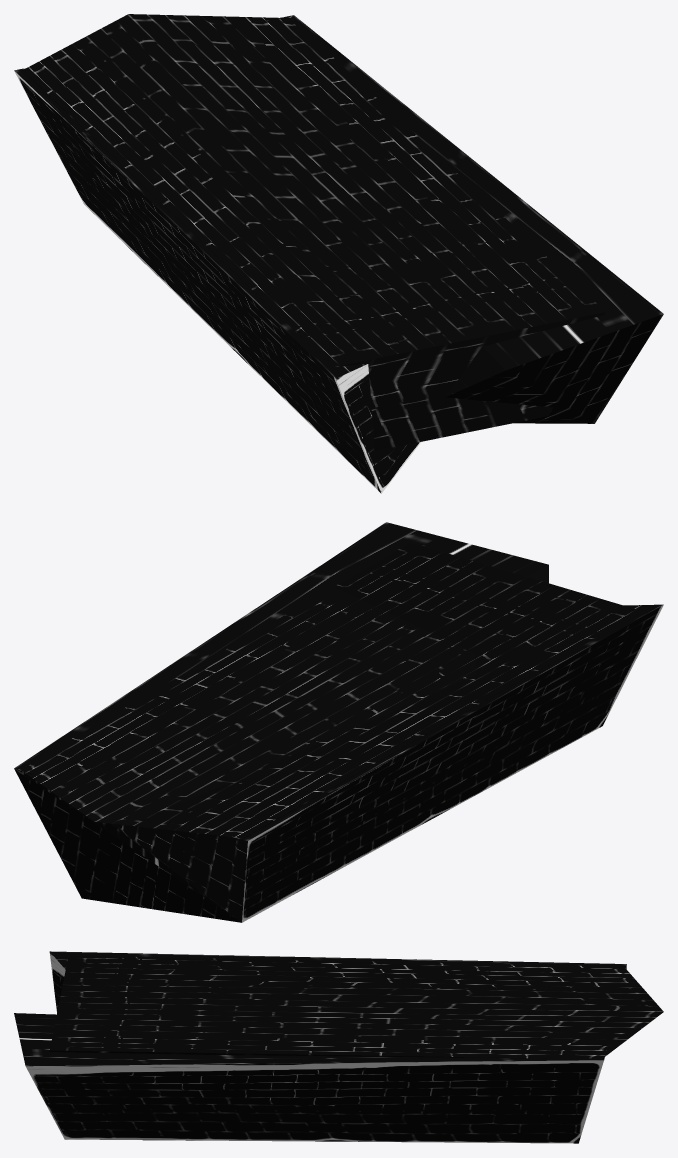
3 views of the same model, one above another, from view 1: azimuth 30°, elevation 25°; view 2: azimuth 150°, elevation 25°; view 3: azimuth 270°, elevation 25° (orthographic). The views are drawn at different scales.
Visible parts, largest first — view 1: platform; view 2: platform; view 3: platform.
Boxes of the visible parts, x1,y1,x2,y2 form: platform: (14, 14, 663, 493); platform: (14, 522, 663, 922); platform: (14, 951, 663, 1143).
Size of the model in its own units: 3.76 by 1.69 by 8.6.
3 materials, 3 textured.
